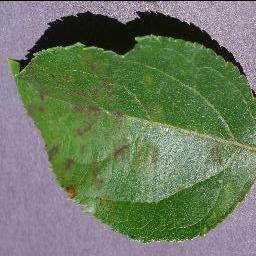apple healthy: (6, 9, 255, 245)
